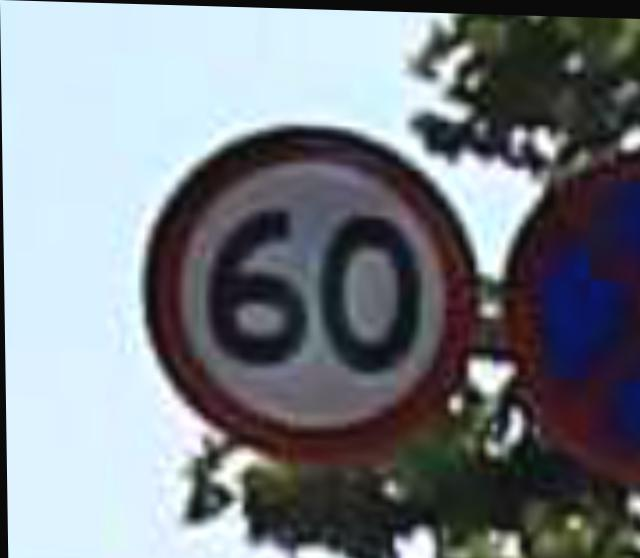limit60: (128, 92, 484, 474)
